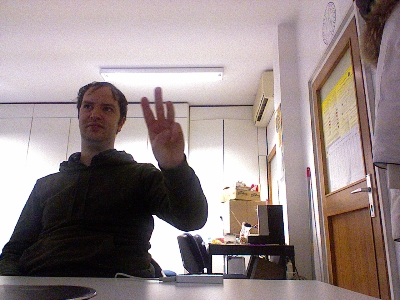三分: (140, 85, 185, 170)
